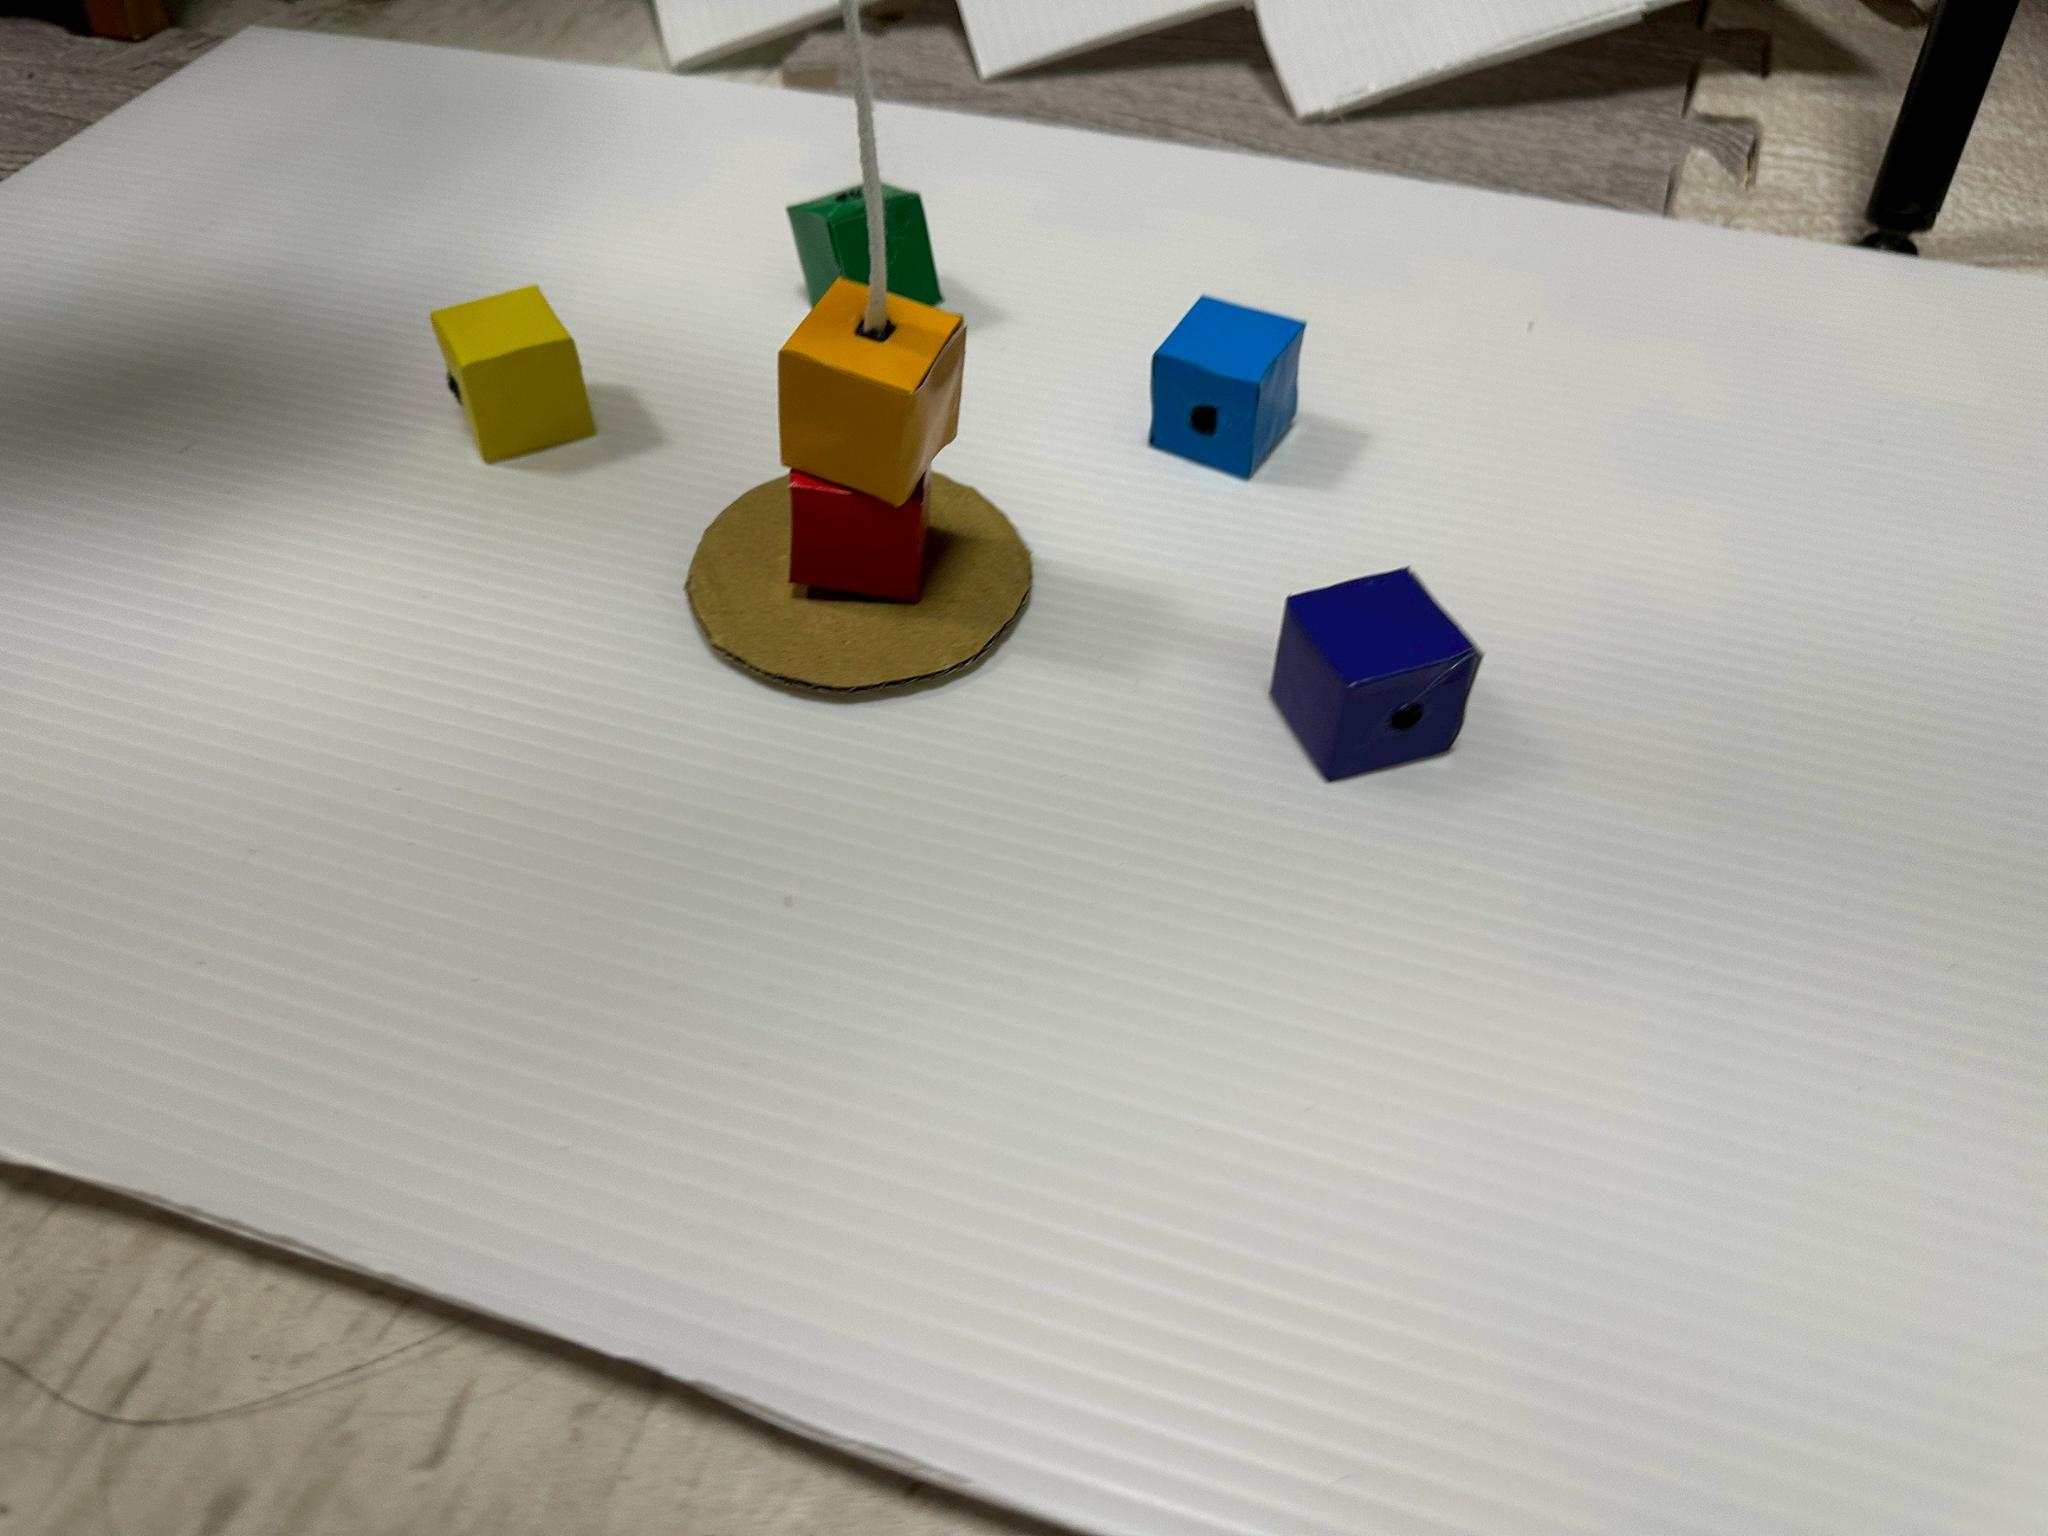cube: (1272, 571, 1480, 781), (780, 279, 964, 505), (431, 286, 593, 463), (1150, 297, 1305, 478), (789, 468, 927, 602), (789, 187, 868, 303), (882, 186, 942, 303)
